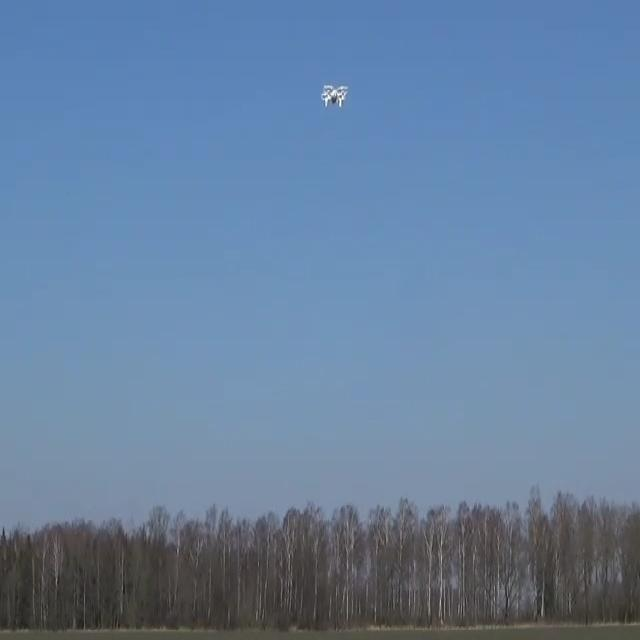drone: (321, 84, 349, 108)
